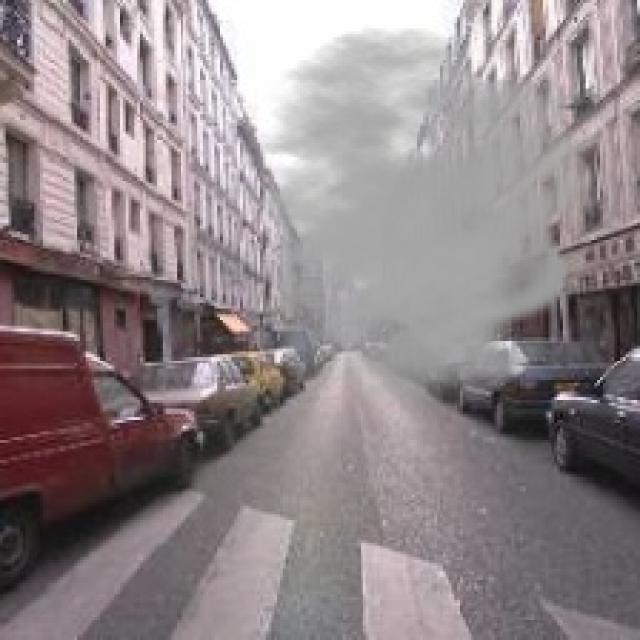Smoke: (211, 26, 603, 412)
